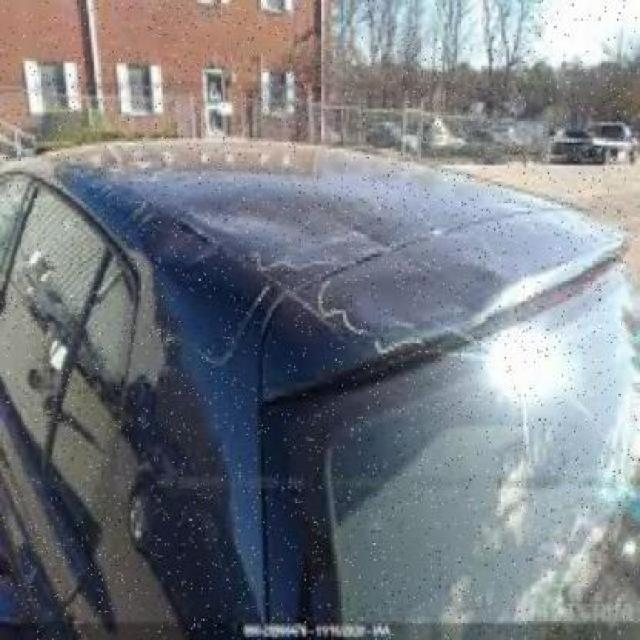roof-dent: (25, 129, 591, 380)
